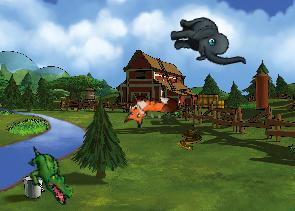crocodile: (15, 144, 84, 207)
elephant: (167, 9, 246, 77)
fox: (123, 91, 178, 132)
